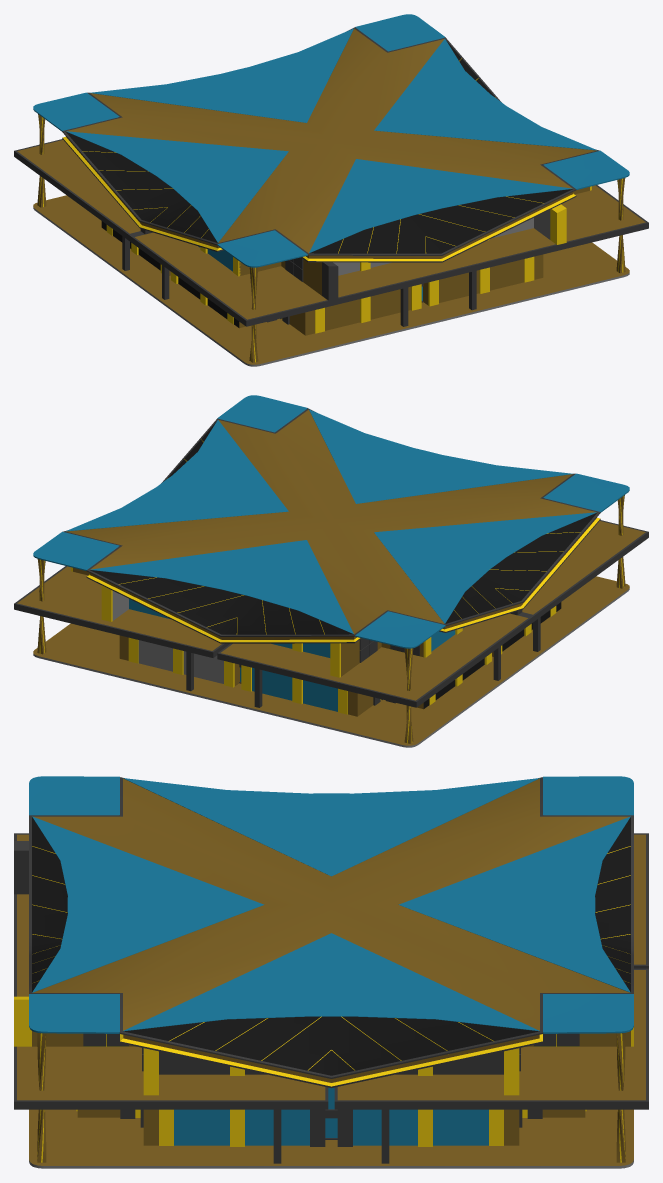
Rendered from SM_MK10_Building_Middle_004.fbx.
The picture shows the model from 3 angles, top to bottom: view 1: azimuth 30°, elevation 25°; view 2: azimuth 150°, elevation 25°; view 3: azimuth 270°, elevation 25°; orthographic projection. The views are drawn at different scales.
Visible parts, largest first — view 1: SM_MK10_Building_Middle_004; view 2: SM_MK10_Building_Middle_004; view 3: SM_MK10_Building_Middle_004.
Part boxes in pixels (x1=…): SM_MK10_Building_Middle_004: x1=14, y1=14, x2=648, y2=366; SM_MK10_Building_Middle_004: x1=14, y1=395, x2=648, y2=747; SM_MK10_Building_Middle_004: x1=14, y1=776, x2=648, y2=1168.
Size of the model in its own units: 2100 by 500 by 2100.
